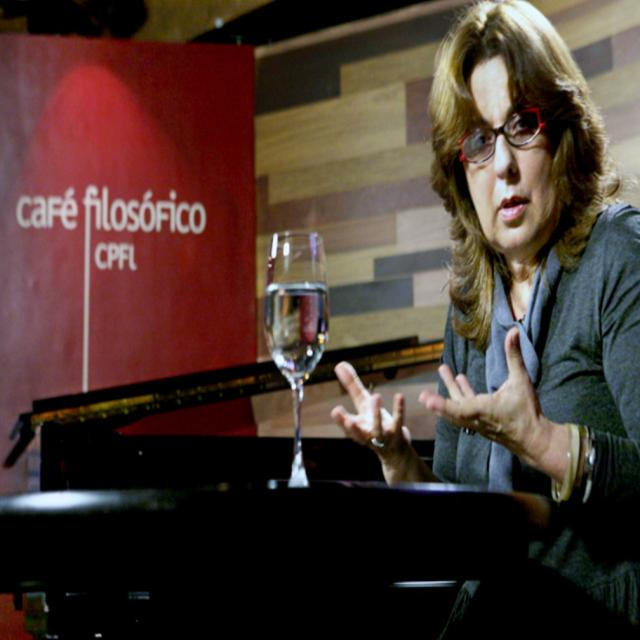Glasses: (466, 101, 565, 158)
